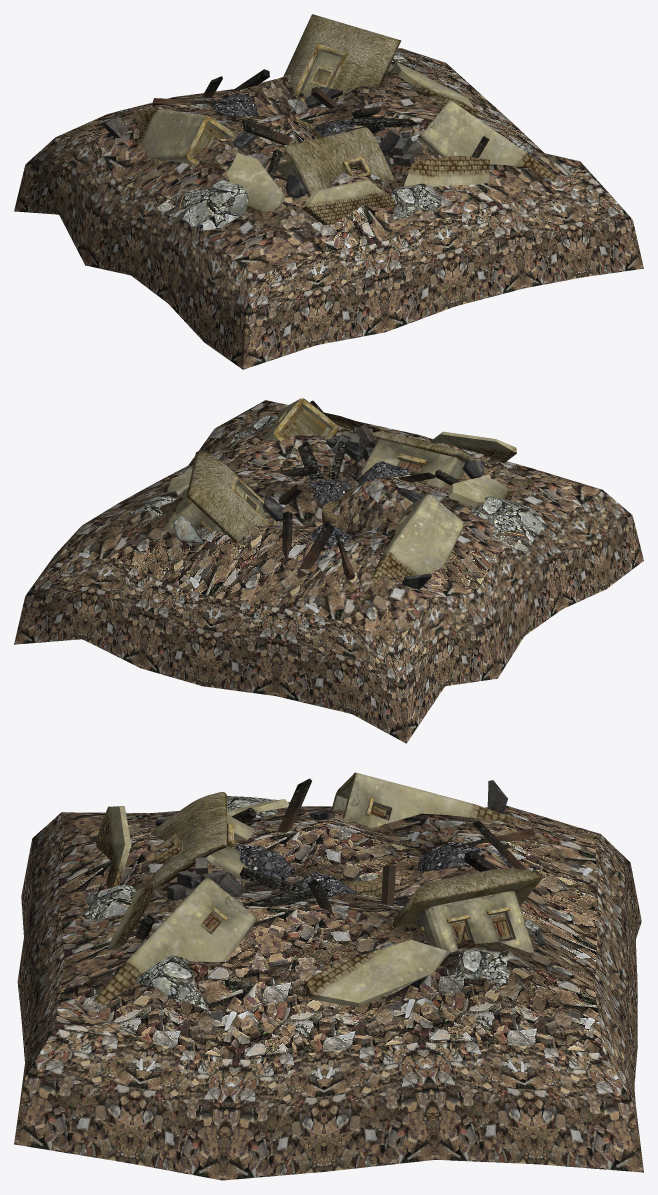
File: iber_town_center_rubble.glb
3 views of the same model, one above another, from view 1: azimuth 30°, elevation 25°; view 2: azimuth 150°, elevation 25°; view 3: azimuth 270°, elevation 25° (orthographic). The views are drawn at different scales.
Parts seen in each view (by area): view 1: iber_town_center_rubble_part0, iber_town_center_rubble_part1; view 2: iber_town_center_rubble_part0, iber_town_center_rubble_part1; view 3: iber_town_center_rubble_part0, iber_town_center_rubble_part1.
Part boxes in pixels (box(x1,y1,x2,y2)): iber_town_center_rubble_part0: box(14, 48, 643, 369); iber_town_center_rubble_part1: box(137, 14, 557, 224); iber_town_center_rubble_part0: box(14, 400, 643, 743); iber_town_center_rubble_part1: box(164, 398, 516, 580); iber_town_center_rubble_part0: box(14, 778, 643, 1180); iber_town_center_rubble_part1: box(93, 772, 542, 1007).
Bounding box in the file's own units: 6.2 × 2.34 × 6.12.
2 materials, 2 textured.
